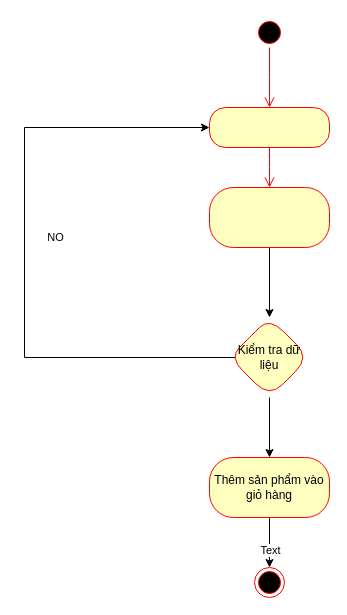
This 347x615 diagram has some shape labels left out. The box of each missing label's shape, as (x1, y1, x2, y2) in pixels:
Click vào mua ngay: (208, 186, 330, 248)
Màn hình chi tiết sản phẩm: (208, 106, 330, 148)
